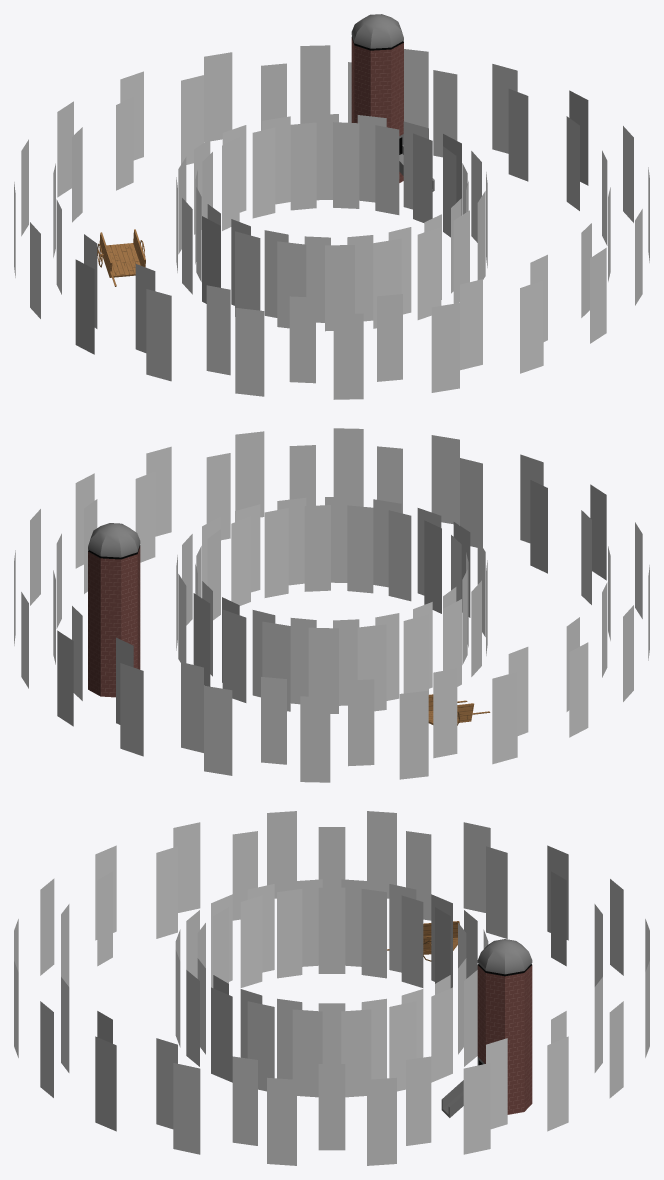
The model's file is Corn Field.fbx.
The picture shows the model from 3 angles, top to bottom: view 1: azimuth 30°, elevation 25°; view 2: azimuth 150°, elevation 25°; view 3: azimuth 270°, elevation 25°; orthographic projection.
Visible parts, largest first — view 1: CornField, Silo, Wagon; view 2: CornField, Silo, Wagon; view 3: CornField, Silo.
Boxes of the visible parts, bbox=[...] form: CornField: bbox=[14, 45, 649, 399]; Silo: bbox=[351, 14, 434, 191]; Wagon: bbox=[97, 229, 145, 286]; CornField: bbox=[14, 428, 649, 782]; Silo: bbox=[88, 523, 140, 697]; Wagon: bbox=[428, 694, 490, 725]; CornField: bbox=[14, 811, 649, 1165]; Silo: bbox=[441, 939, 532, 1117].
Bounding box in the file's own units: 28405 × 8014 × 28405.
